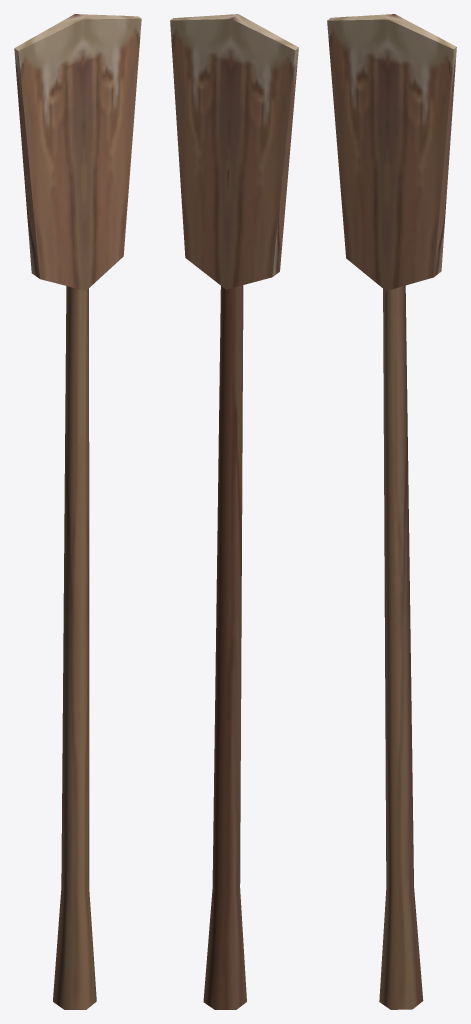
The model's file is map_1002_wj_21.FBX.
The picture shows the model from 3 angles, left to right: view 1: azimuth 30°, elevation 25°; view 2: azimuth 150°, elevation 25°; view 3: azimuth 330°, elevation 25°; orthographic projection.
Visible parts, largest first — view 1: map_1002_wj_21; view 2: map_1002_wj_21; view 3: map_1002_wj_21.
Part boxes in pixels (left/top/right/bottom): map_1002_wj_21: left=14, top=14, right=141, bottom=1009; map_1002_wj_21: left=170, top=14, right=298, bottom=1009; map_1002_wj_21: left=327, top=14, right=456, bottom=1009.
Size of the model in its own units: 0.3486 by 2.63 by 0.1169.
